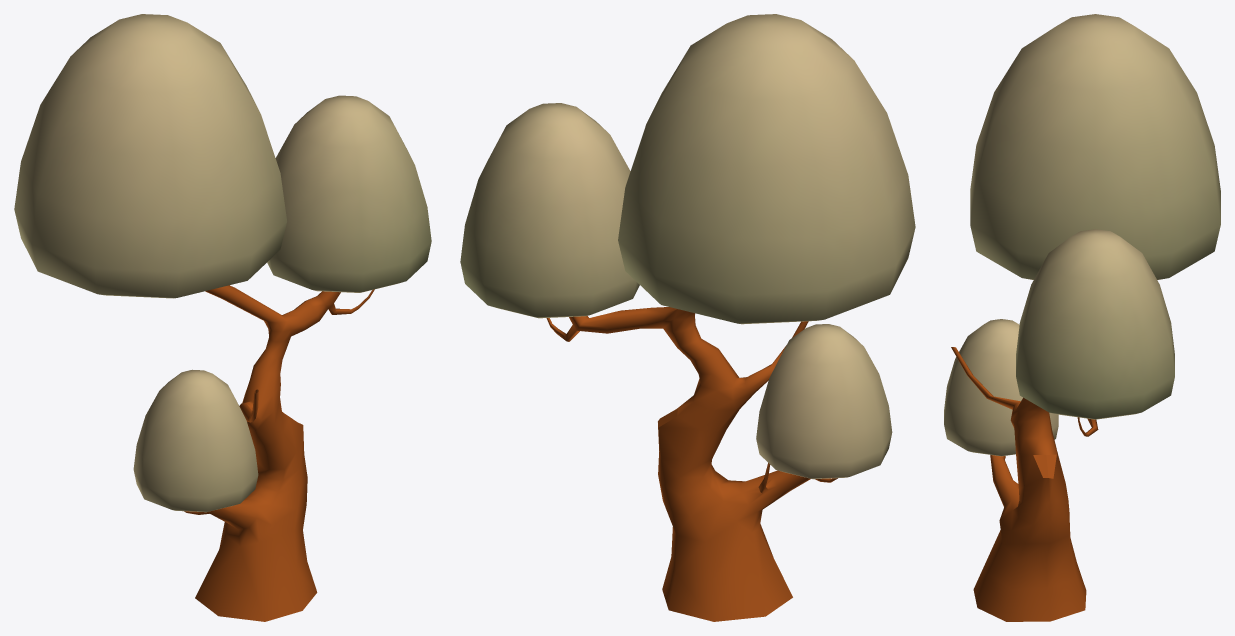
The model's file is SM_Tree_39.fbx.
3 views of the same model, side by side, from view 1: azimuth 30°, elevation 25°; view 2: azimuth 150°, elevation 25°; view 3: azimuth 270°, elevation 25° (orthographic). The views are drawn at different scales.
Visible parts, largest first — view 1: SM_Tree_39; view 2: SM_Tree_39; view 3: SM_Tree_39.
Part boxes in pixels (x1,y1,x2,y2): SM_Tree_39: (14, 14, 431, 621); SM_Tree_39: (460, 14, 915, 621); SM_Tree_39: (944, 14, 1220, 621).
Size of the model in its own units: 906 by 1255 by 581.
